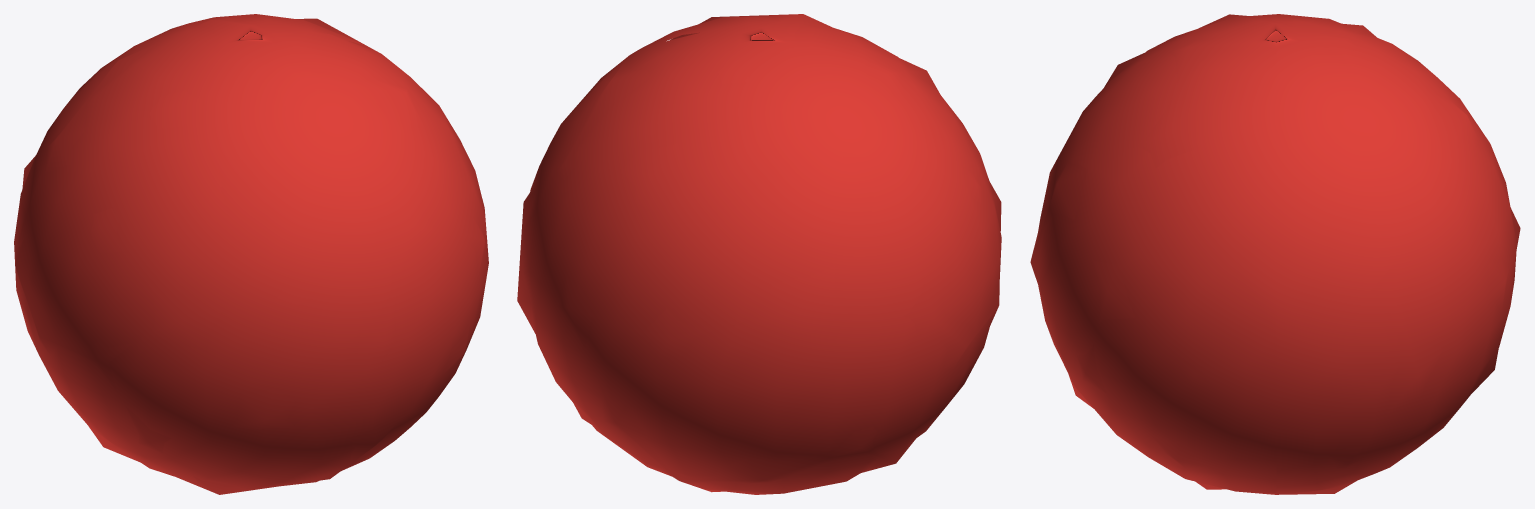
Rendered from layer-coat.low.glb.
3 views of the same model, side by side, from view 1: azimuth 30°, elevation 25°; view 2: azimuth 150°, elevation 25°; view 3: azimuth 270°, elevation 25° (orthographic).
Visible parts, largest first — view 1: coat (×2); view 2: coat (×2); view 3: coat (×2).
Part boxes in pixels (left/top/right/bottom): coat (×2): left=14, top=14, right=488, bottom=494; coat (×2): left=517, top=14, right=1001, bottom=494; coat (×2): left=1030, top=14, right=1520, bottom=494.
Size of the model in its own units: 0.8417 by 0.8413 by 0.8564.
